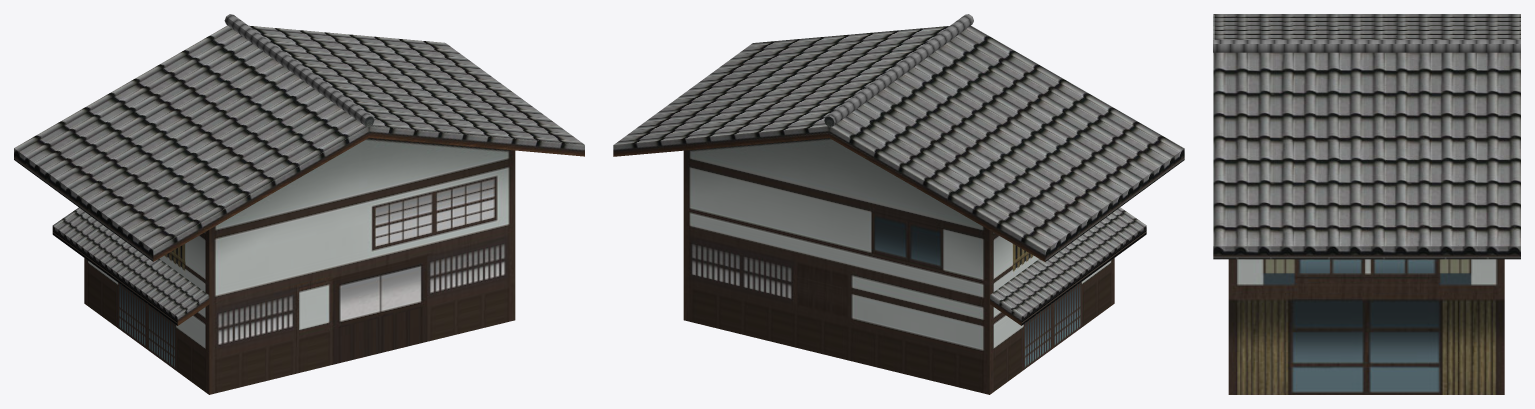
File: city.dae
3 renders of one model, left to right at view 1: azimuth 30°, elevation 25°; view 2: azimuth 150°, elevation 25°; view 3: azimuth 270°, elevation 25°, orthographic. The views are drawn at different scales.
Visible parts, largest first — view 1: 江戸 建物2_mesh; view 2: 江戸 建物2_mesh; view 3: 江戸 建物2_mesh.
Part boxes in pixels (<box>): 江戸 建物2_mesh: <box>14,14,584,394</box>; 江戸 建物2_mesh: <box>613,14,1184,394</box>; 江戸 建物2_mesh: <box>1213,14,1520,394</box>.
Size of the model in its own units: 11.94 by 6.69 by 6.53.
Materials: 3 (3 with a texture image).
